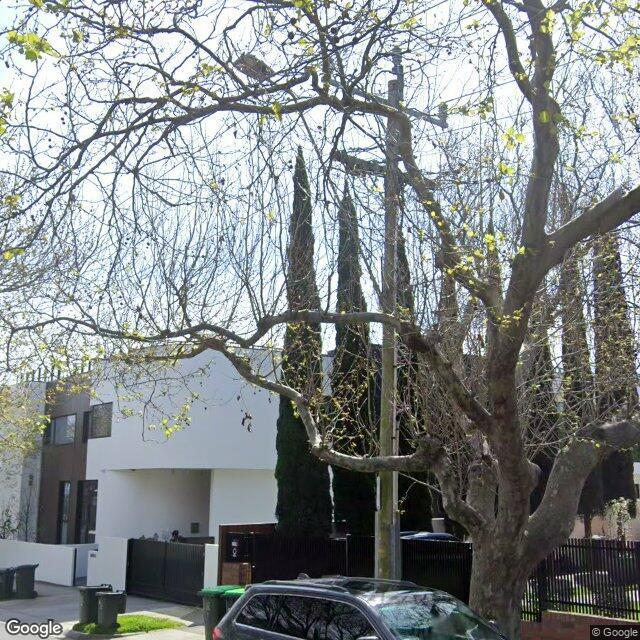HV-transmission: (324, 45, 448, 121)
crossarm: (322, 76, 446, 130), (328, 149, 437, 189)
streetlight: (234, 51, 387, 310)
timber-pole: (374, 80, 400, 580)
